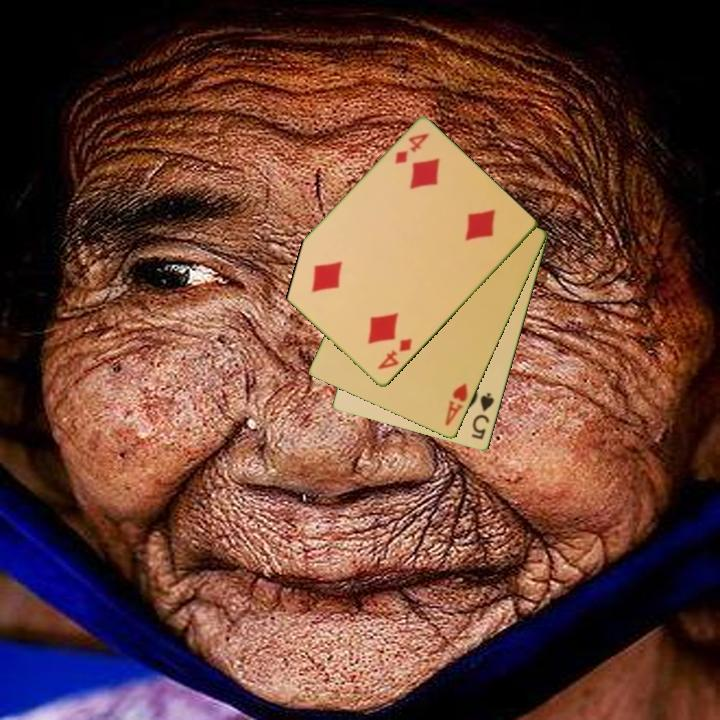4d: (374, 335, 415, 373), (391, 130, 432, 168)
5s: (468, 389, 497, 443)
Ah: (441, 380, 471, 429)
